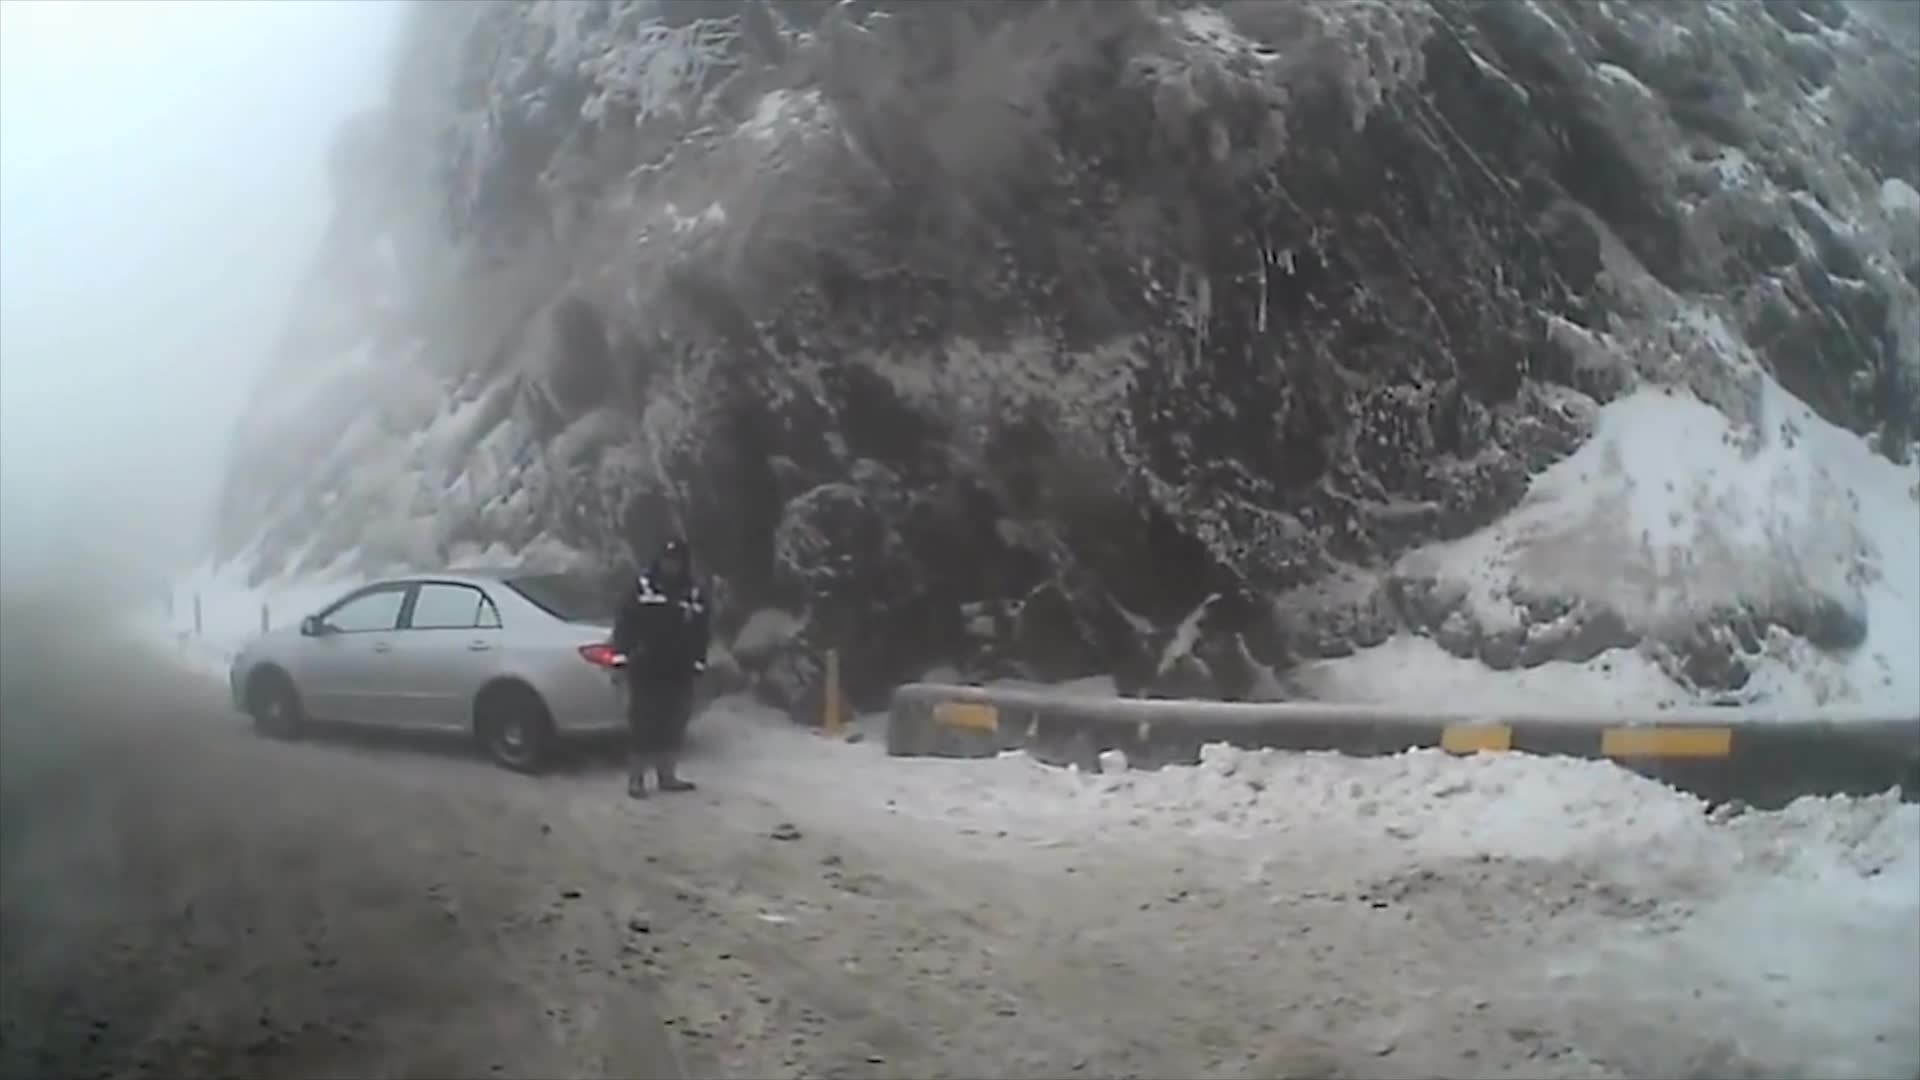pedestrian: (625, 537, 721, 801)
vehicle: (232, 564, 715, 773)
